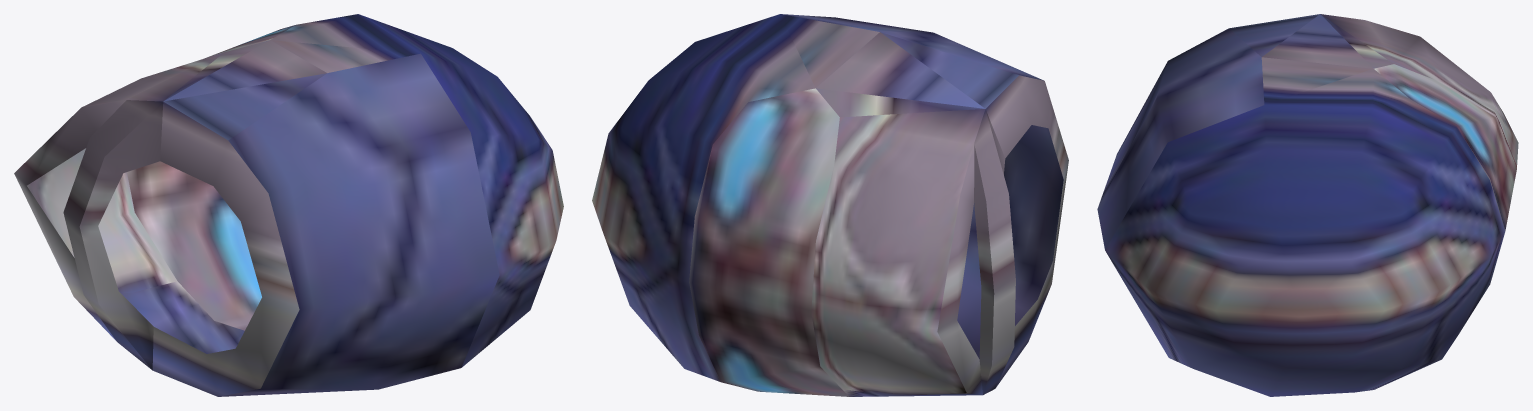
The model's file is CrashHelmetFullOptimus.fbx.
The picture shows the model from 3 angles, left to right: view 1: azimuth 30°, elevation 25°; view 2: azimuth 150°, elevation 25°; view 3: azimuth 270°, elevation 25°; orthographic projection. The views are drawn at different scales.
Visible parts, largest first — view 1: M_CrashHelmetFULL.020; view 2: M_CrashHelmetFULL.020; view 3: M_CrashHelmetFULL.020.
Boxes of the visible parts, left/top/right/bottom form: M_CrashHelmetFULL.020: left=14, top=14, right=563, bottom=396; M_CrashHelmetFULL.020: left=592, top=14, right=1068, bottom=396; M_CrashHelmetFULL.020: left=1097, top=14, right=1518, bottom=396.
Bounding box in the file's own units: 0.1953 × 0.144 × 0.1836.
